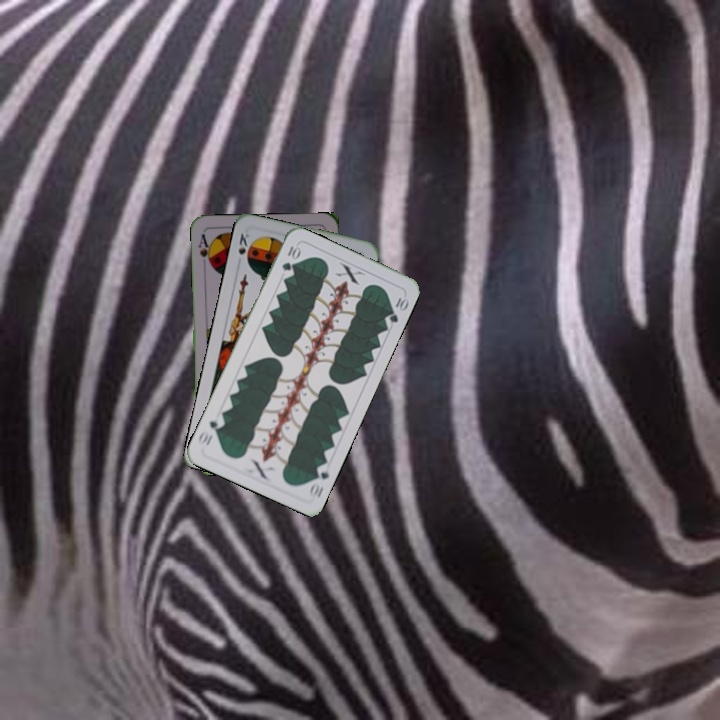G10: (306, 460, 332, 501), (278, 242, 302, 274)
SA: (194, 230, 214, 270)
SK: (234, 228, 252, 257)
